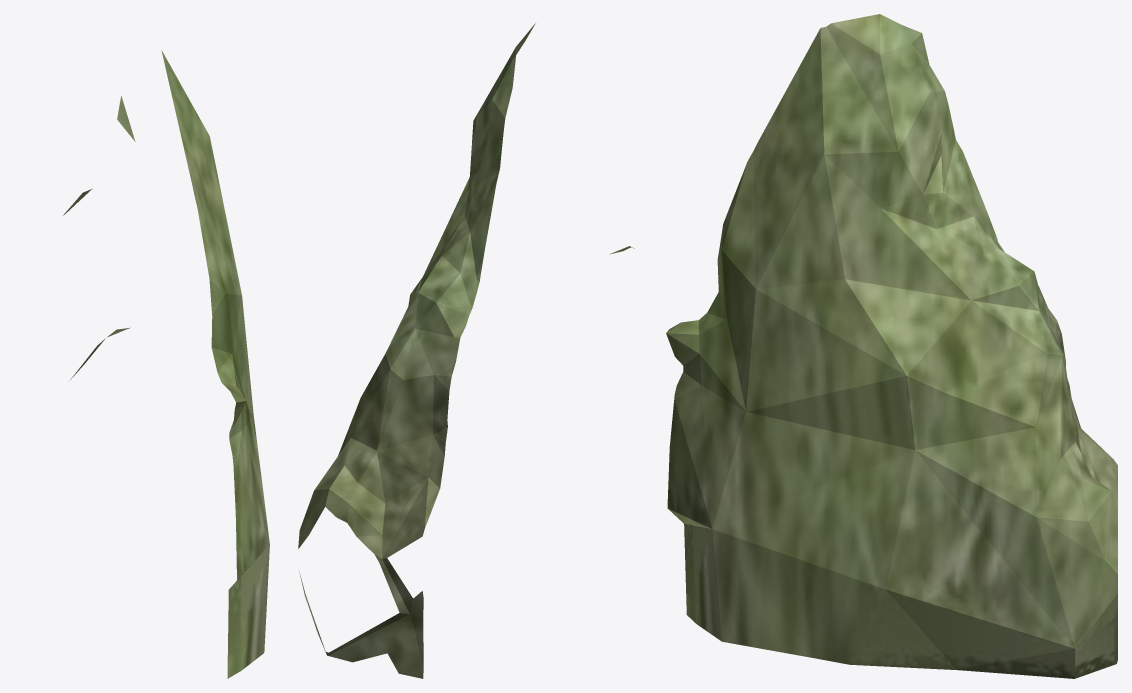
The picture shows the model from 3 angles, left to right: view 1: azimuth 30°, elevation 25°; view 2: azimuth 150°, elevation 25°; view 3: azimuth 270°, elevation 25°; orthographic projection. The views are drawn at different scales.
Size of the model in its own units: 0.8493 by 3.37 by 2.3.
Materials: 1 (1 with a texture image).
